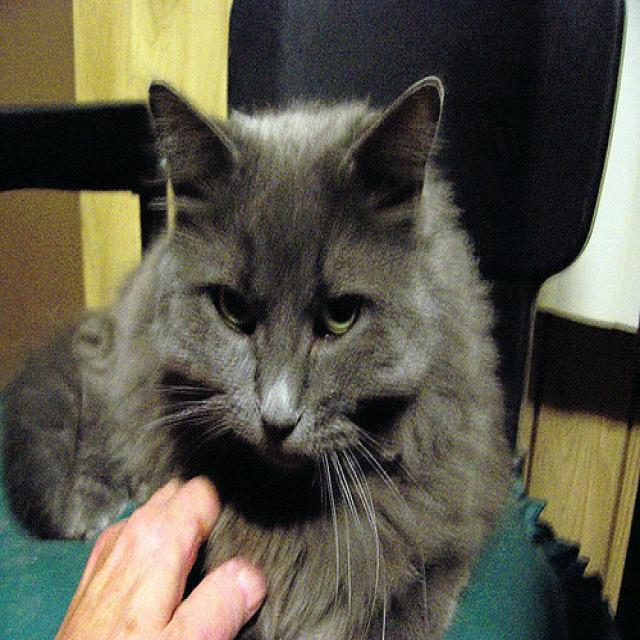cat: (2, 73, 521, 639)
